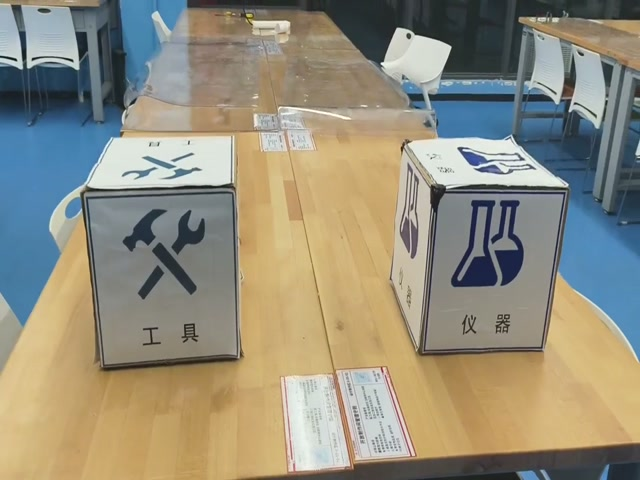Cube_ins: (403, 138, 568, 200)
Cube_tool: (82, 137, 235, 197)
